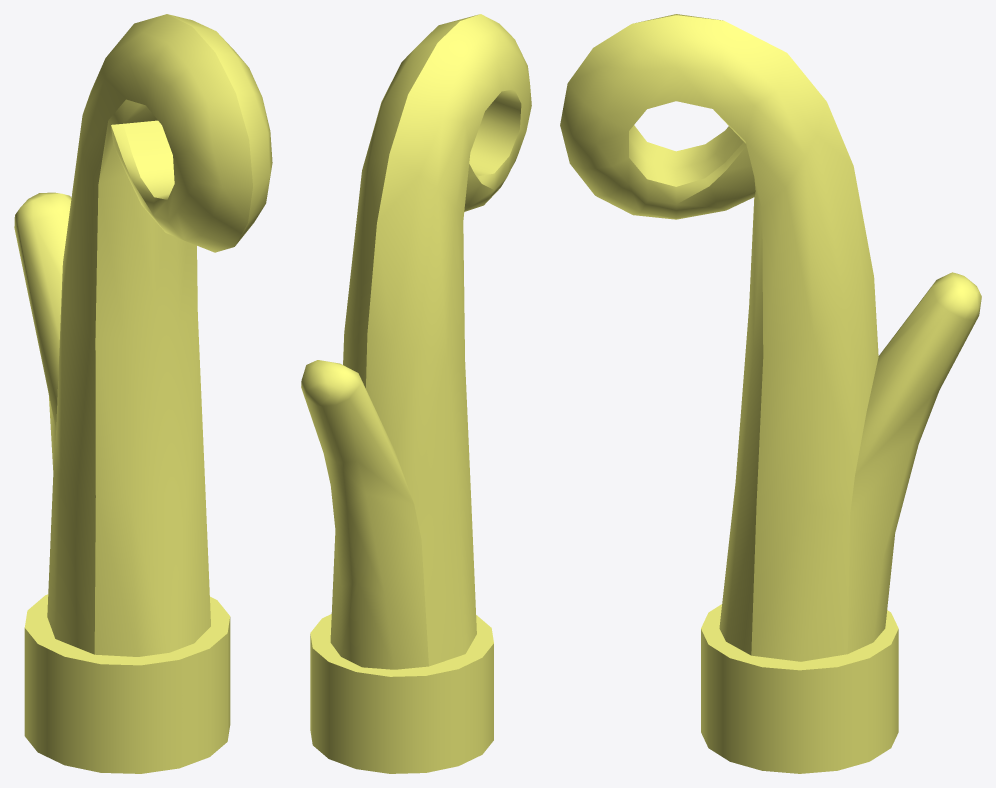
3 views of the same model, side by side, from view 1: azimuth 30°, elevation 25°; view 2: azimuth 150°, elevation 25°; view 3: azimuth 270°, elevation 25° (orthographic). The views are drawn at different scales.
Parts seen in each view (by area): view 1: 15279.dat; view 2: 15279.dat; view 3: 15279.dat.
Part boxes in pixels (x1=…): 15279.dat: x1=14, y1=14, x2=272, y2=773; 15279.dat: x1=301, y1=14, x2=531, y2=773; 15279.dat: x1=560, y1=14, x2=981, y2=773.
Bounding box in the file's own units: 0.0064 × 0.0256 × 0.0136.
